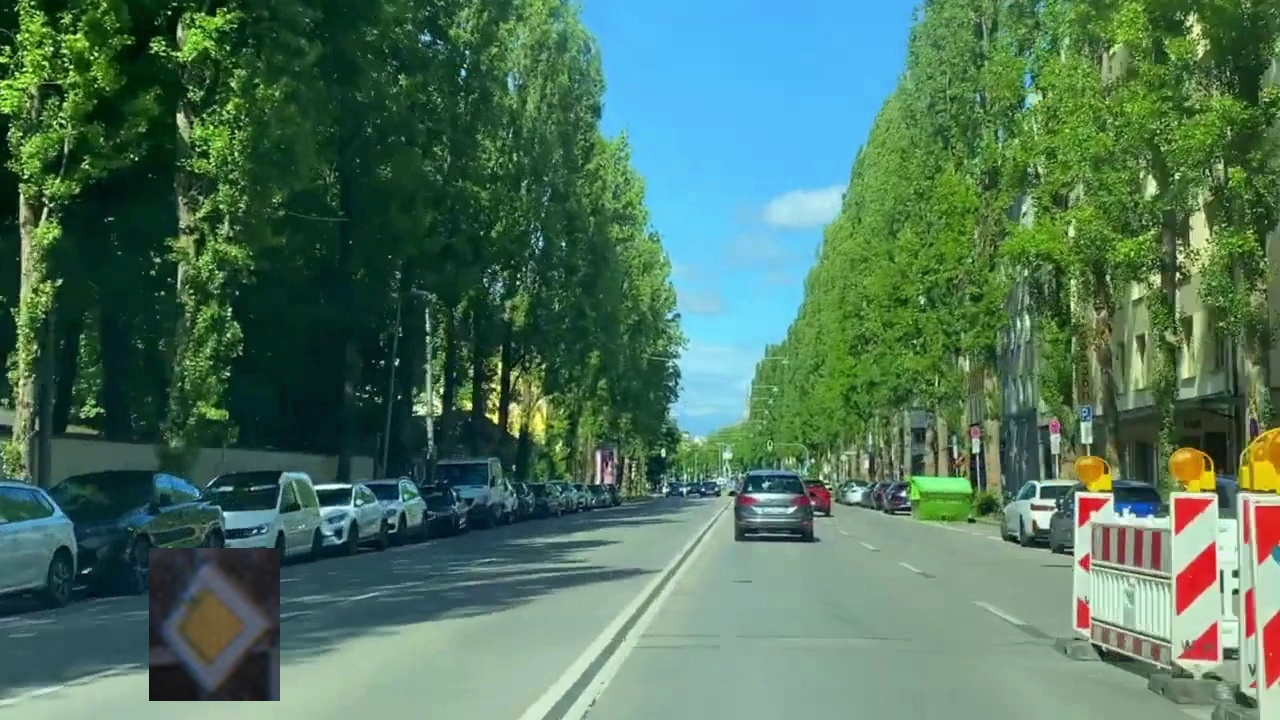Priority road: (149, 548, 280, 701)
